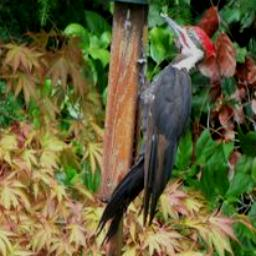Woodpecker: (96, 11, 217, 245)
